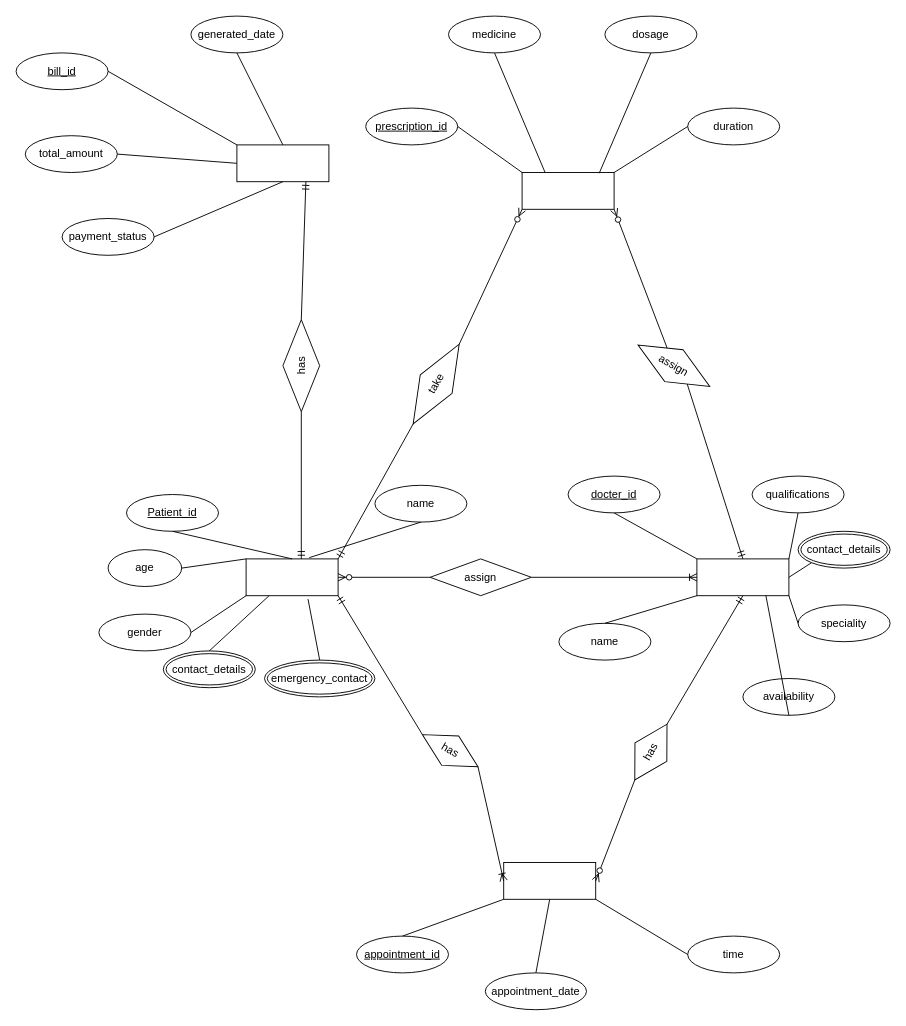
Some shapes in this 906 by 1026 pixel diagram are drawn without their labels. The shapes that lost their labels are listed below. From the top down, each one's centre as x and y in pixels, then its label:
the point at 282,163: Bill
the point at 567,190: Prescription
the point at 291,577: Patients
the point at 742,577: Doctors
the point at 549,880: Appointment
